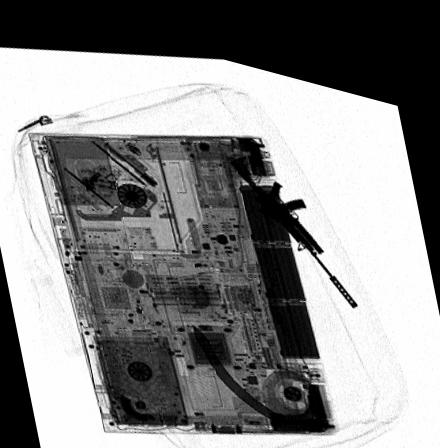Gun: (228, 140, 363, 292)
